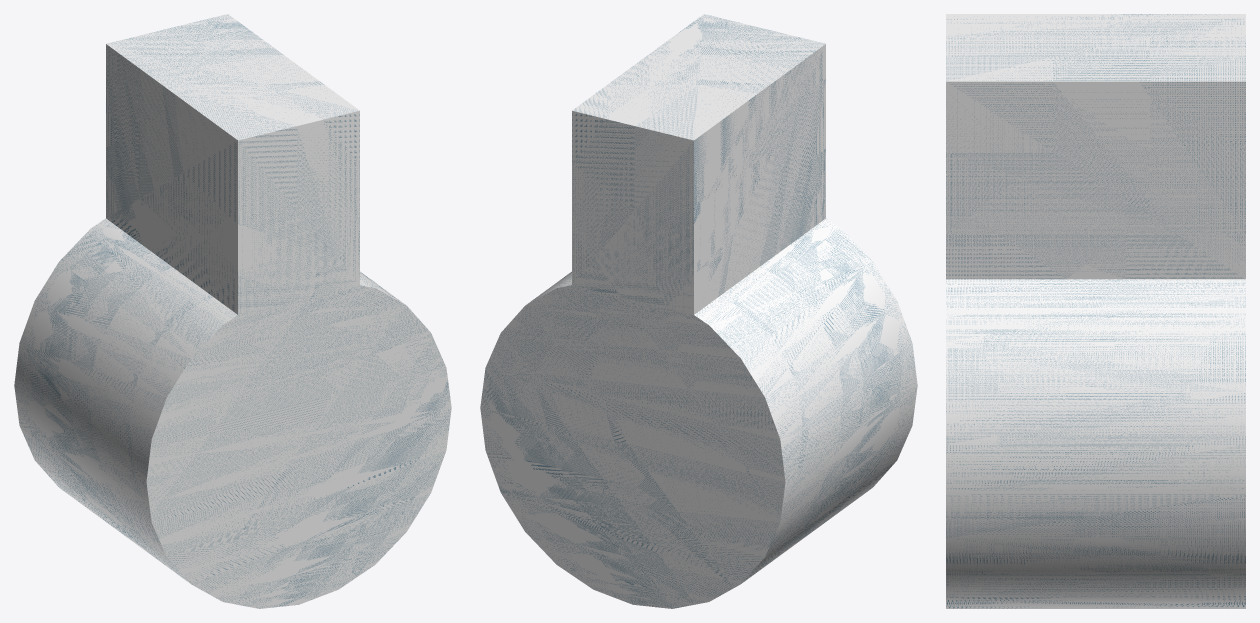
The model's file is Nose.dae.
3 views of the same model, side by side, from view 1: azimuth 30°, elevation 25°; view 2: azimuth 150°, elevation 25°; view 3: azimuth 270°, elevation 25° (orthographic). The views are drawn at different scales.
Parts seen in each view (by area): view 1: SketchUp; view 2: SketchUp; view 3: SketchUp.
Part boxes in pixels (box(x1,y1,x2,y2)): SketchUp: box(14, 14, 451, 608); SketchUp: box(480, 14, 917, 608); SketchUp: box(946, 14, 1245, 608).
Bounding box in the file's own units: 78.74 × 59.06 × 118.
